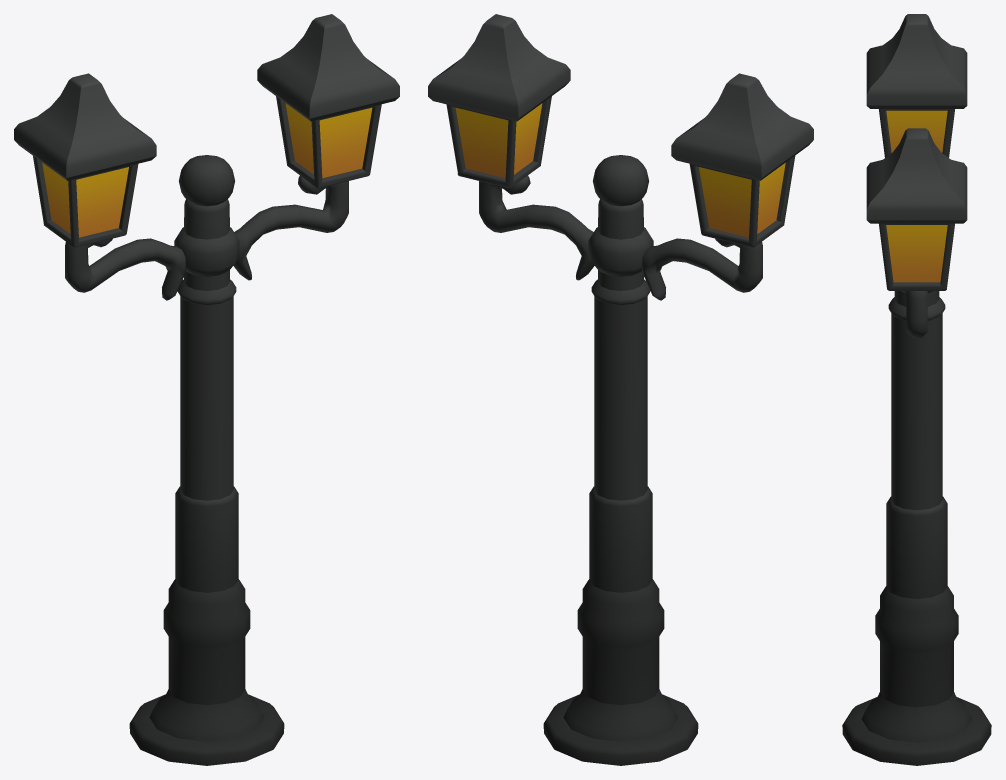
File: lamp.fbx
3 views of the same model, side by side, from view 1: azimuth 30°, elevation 25°; view 2: azimuth 150°, elevation 25°; view 3: azimuth 270°, elevation 25° (orthographic). The views are drawn at different scales.
Parts seen in each view (by area): view 1: pCube3; view 2: pCube3; view 3: pCube3.
Part boxes in pixels (x1,y1,x2,y2): pCube3: [14, 14, 399, 765]; pCube3: [428, 14, 813, 765]; pCube3: [842, 14, 991, 765].
Bounding box in the file's own units: 0.7514 × 1.47 × 0.3018.
Materials: 1 (1 with a texture image).
